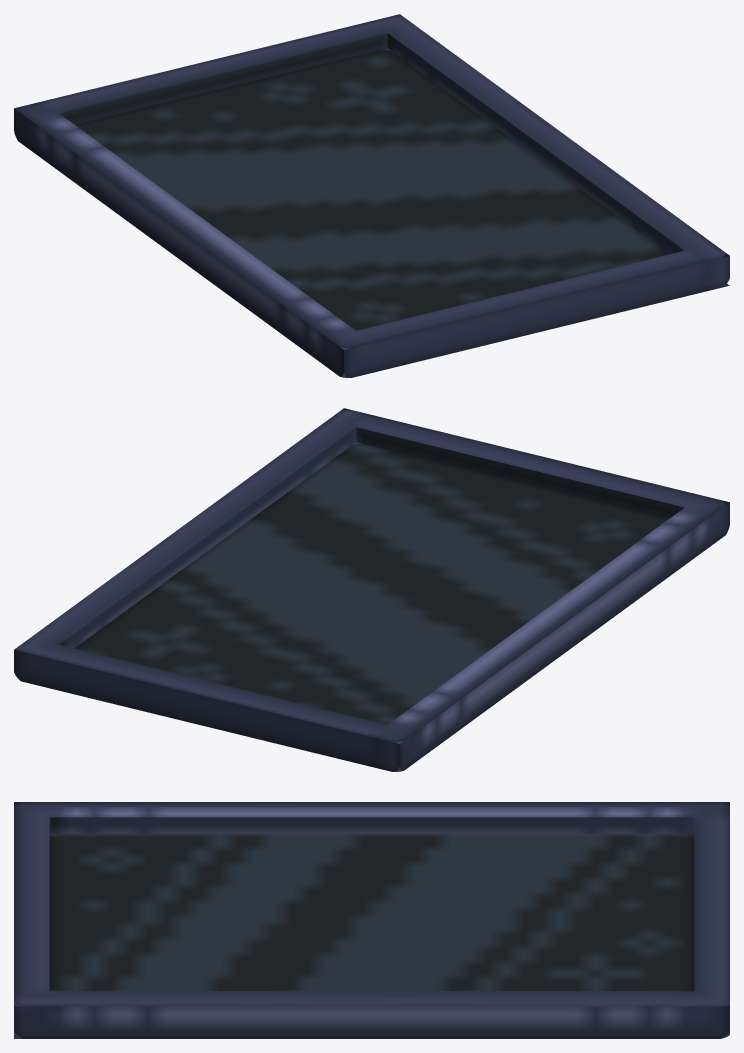
File: television.fbx
The picture shows the model from 3 angles, top to bottom: view 1: azimuth 30°, elevation 25°; view 2: azimuth 150°, elevation 25°; view 3: azimuth 270°, elevation 25°; orthographic projection. The views are drawn at different scales.
Visible parts, largest first — view 1: cube; view 2: cube; view 3: cube.
Part boxes in pixels (x1=…): cube: x1=14, y1=14, x2=729, y2=377; cube: x1=14, y1=408, x2=729, y2=771; cube: x1=14, y1=802, x2=729, y2=1038.
Bounding box in the file's own units: 169 × 12.5 × 250.
Materials: 1 (1 with a texture image).
